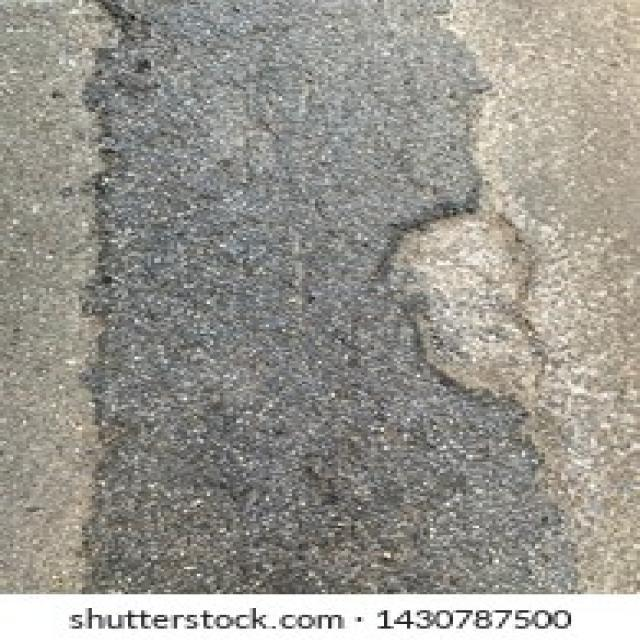Pothole: (370, 196, 552, 404)
